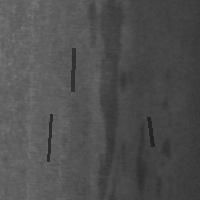inclusion: (80, 1, 128, 198), (130, 115, 155, 194), (158, 135, 174, 164), (46, 112, 53, 163), (146, 115, 154, 148), (70, 46, 75, 93)
